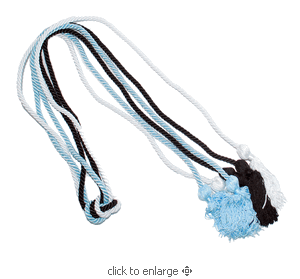Nonrec_Tangler: (15, 6, 291, 235)
